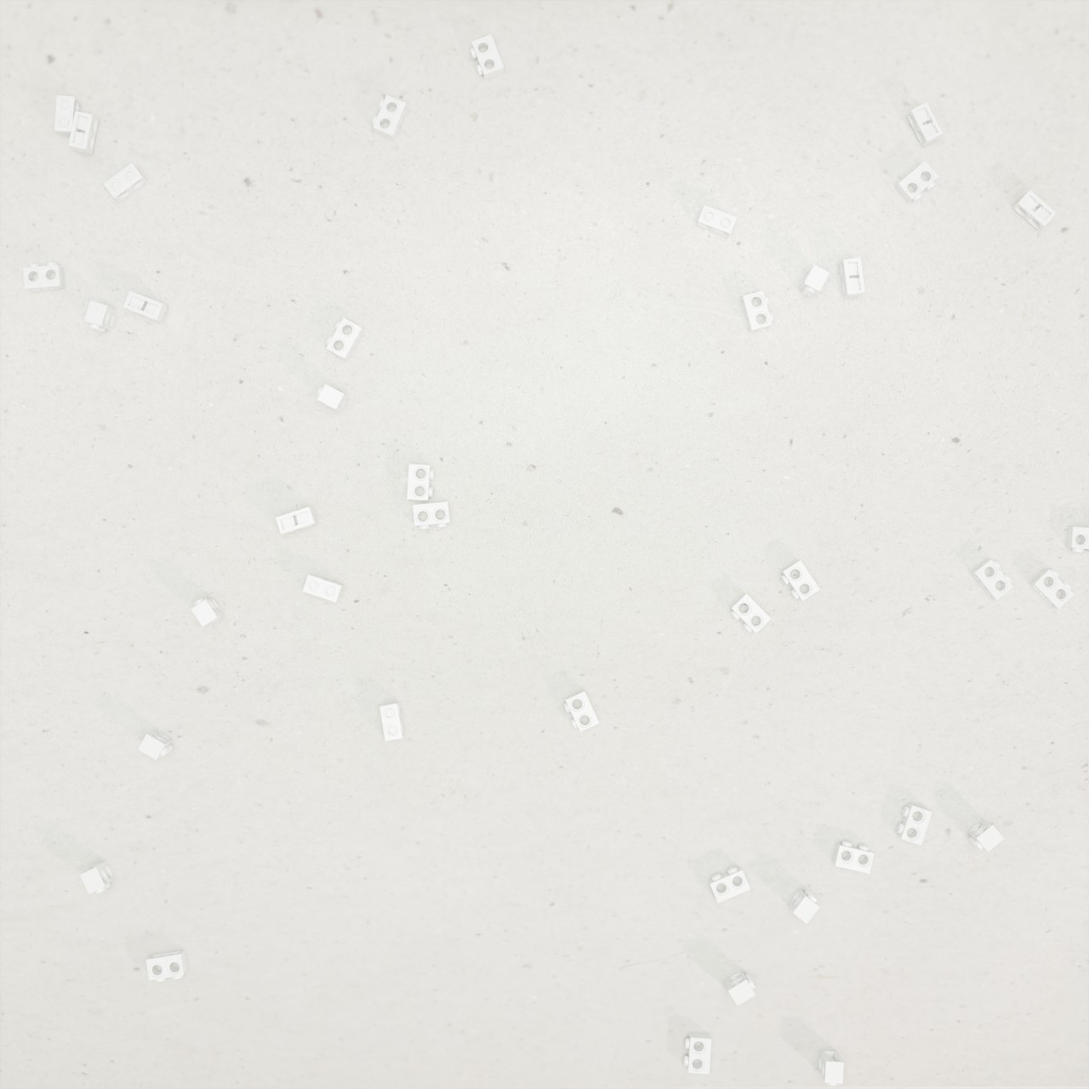lego: (894, 161, 939, 203), (1012, 190, 1057, 231), (1029, 569, 1074, 609), (103, 163, 148, 203), (970, 559, 1013, 600), (906, 102, 943, 147), (730, 593, 771, 633), (780, 560, 820, 601), (326, 318, 364, 361), (372, 95, 408, 140), (708, 866, 751, 903), (470, 34, 504, 80), (896, 803, 932, 846), (564, 690, 600, 732), (123, 291, 168, 323), (740, 291, 774, 333), (832, 841, 874, 874), (68, 111, 99, 155), (696, 205, 737, 238), (146, 950, 188, 982), (23, 262, 65, 292), (967, 818, 1004, 852), (302, 574, 344, 603), (80, 860, 115, 894), (787, 888, 820, 924), (684, 1032, 712, 1074), (275, 507, 318, 534), (724, 970, 756, 1006), (54, 95, 81, 137), (84, 300, 117, 333), (798, 264, 830, 298), (138, 730, 174, 760), (839, 257, 865, 298), (379, 701, 405, 741), (413, 502, 451, 529), (191, 597, 225, 627), (407, 464, 434, 501), (316, 384, 349, 413), (818, 1050, 844, 1086), (1066, 527, 1089, 554)
